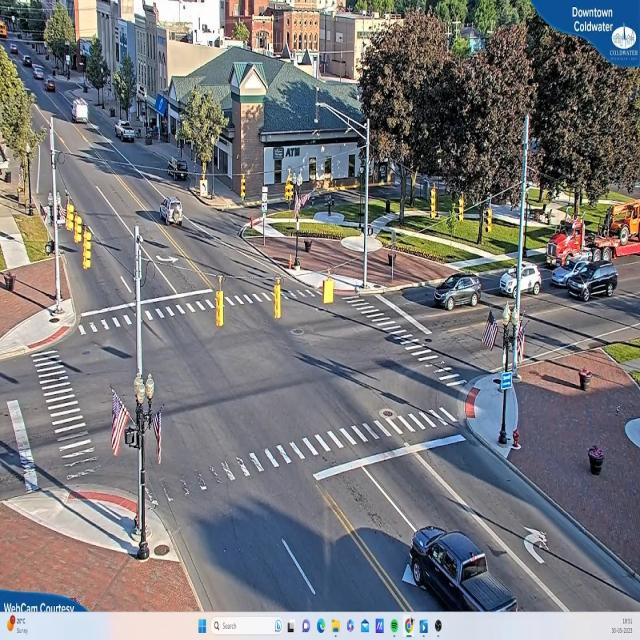car: (408, 526, 498, 604), (565, 262, 620, 301), (436, 274, 482, 312), (496, 263, 543, 296), (116, 125, 136, 144), (46, 80, 57, 92), (33, 67, 44, 79)
